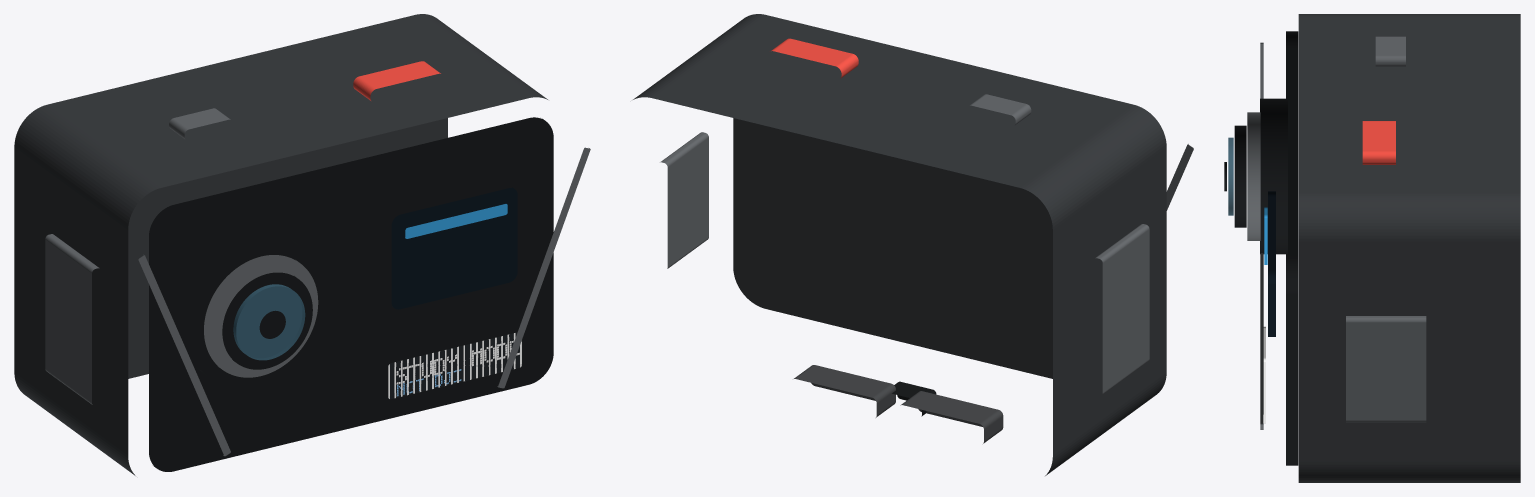
Rendered from action-6-inspired-study.glb.
3 views of the same model, side by side, from view 1: azimuth 30°, elevation 25°; view 2: azimuth 150°, elevation 25°; view 3: azimuth 270°, elevation 25° (orthographic). The views are drawn at different scales.
Parts seen in each view (by area): view 1: rounded square action camera body, front rubber faceplate, front status display glass, left waterproof door outline, outer lens protective ring, front study watermark plaque, knurled lens bevel ring, blue tinted glass element, concave dark inner lens, diagonal originality mark two, diagonal originality mark one, top red record button (+2 smaller); view 2: rounded square action camera body, left waterproof door outline, right quick release cover, bottom magnetic mount right rail, bottom magnetic mount left rail, top red record button, top dark mode button; view 3: rounded square action camera body, right quick release cover, front rubber faceplate, outer lens protective ring, knurled lens bevel ring, top red record button, concave dark inner lens, front status display glass, top dark mode button, diagonal originality mark two, blue tinted glass element.
Part boxes in pixels (x1=…): rounded square action camera body: x1=14, y1=14, x2=547, y2=475; front rubber faceplate: x1=149, y1=117, x2=553, y2=471; front status display glass: x1=391, y1=187, x2=517, y2=309; left waterproof door outline: x1=45, y1=234, x2=99, y2=404; outer lens protective ring: x1=185, y1=237, x2=323, y2=385; front study watermark plaque: x1=388, y1=332, x2=522, y2=399; knurled lens bevel ring: x1=204, y1=255, x2=318, y2=377; blue tinted glass element: x1=233, y1=284, x2=305, y2=360; concave dark inner lens: x1=222, y1=272, x2=312, y2=369; diagonal originality mark two: x1=497, y1=147, x2=590, y2=388; diagonal originality mark one: x1=138, y1=254, x2=230, y2=456; top red record button: x1=353, y1=61, x2=440, y2=100; rounded square action camera body: x1=633, y1=14, x2=1166, y2=475; left waterproof door outline: x1=1095, y1=224, x2=1149, y2=394; right quick release cover: x1=660, y1=132, x2=708, y2=268; bottom magnetic mount right rail: x1=794, y1=365, x2=895, y2=417; bottom magnetic mount left rail: x1=900, y1=391, x2=1003, y2=443; top red record button: x1=771, y1=38, x2=858, y2=78; top dark mode button: x1=969, y1=94, x2=1031, y2=124; rounded square action camera body: x1=1298, y1=14, x2=1520, y2=482; right quick release cover: x1=1346, y1=316, x2=1426, y2=422; front rubber faceplate: x1=1286, y1=31, x2=1298, y2=465; outer lens protective ring: x1=1260, y1=98, x2=1287, y2=254; knurled lens bevel ring: x1=1247, y1=112, x2=1260, y2=240; top red record button: x1=1362, y1=121, x2=1395, y2=164; concave dark inner lens: x1=1234, y1=125, x2=1246, y2=227; front status display glass: x1=1268, y1=191, x2=1275, y2=336; top dark mode button: x1=1375, y1=36, x2=1405, y2=66; diagonal originality mark two: x1=1260, y1=253, x2=1263, y2=429; blue tinted glass element: x1=1228, y1=137, x2=1233, y2=215.
Size of the model in its own units: 7.6 by 5.35 by 4.41.
9 materials, 1 textured.
